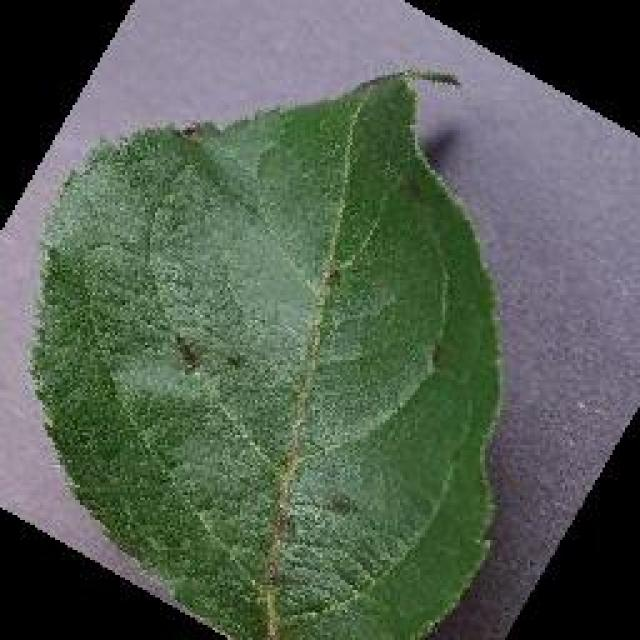apple scab disease: (25, 65, 507, 637)
